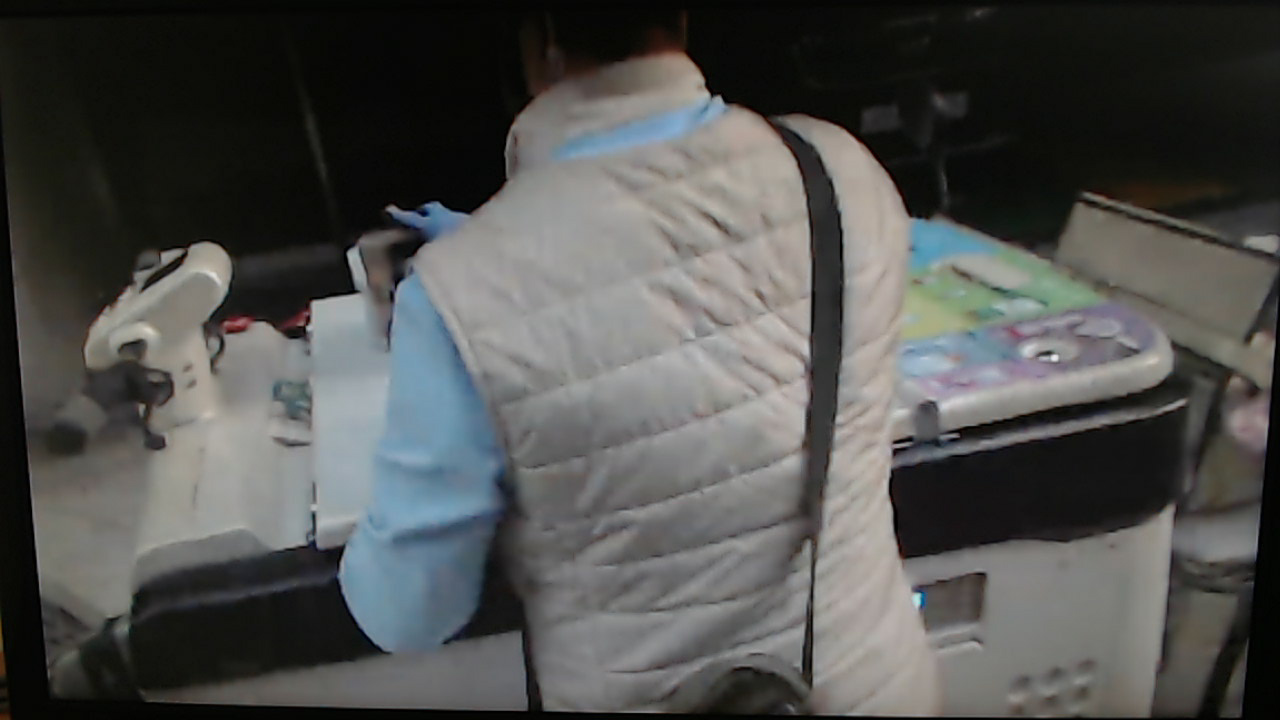Yakurut: (383, 12, 958, 716)
